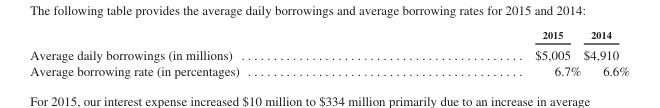table: (29, 28, 629, 77)
table column: (29, 28, 386, 77), (386, 28, 581, 77), (581, 28, 629, 77)
table column header: (29, 28, 629, 44)
table row: (29, 44, 629, 62), (29, 28, 629, 44), (29, 62, 629, 77)
